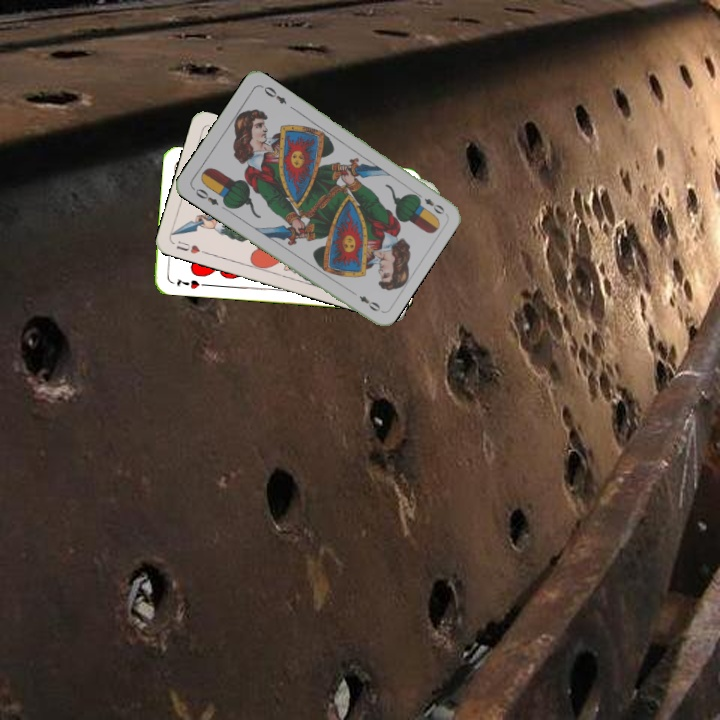EO: (411, 189, 447, 217), (189, 184, 221, 208)
H7: (172, 275, 202, 291)
HU: (172, 237, 210, 257)
